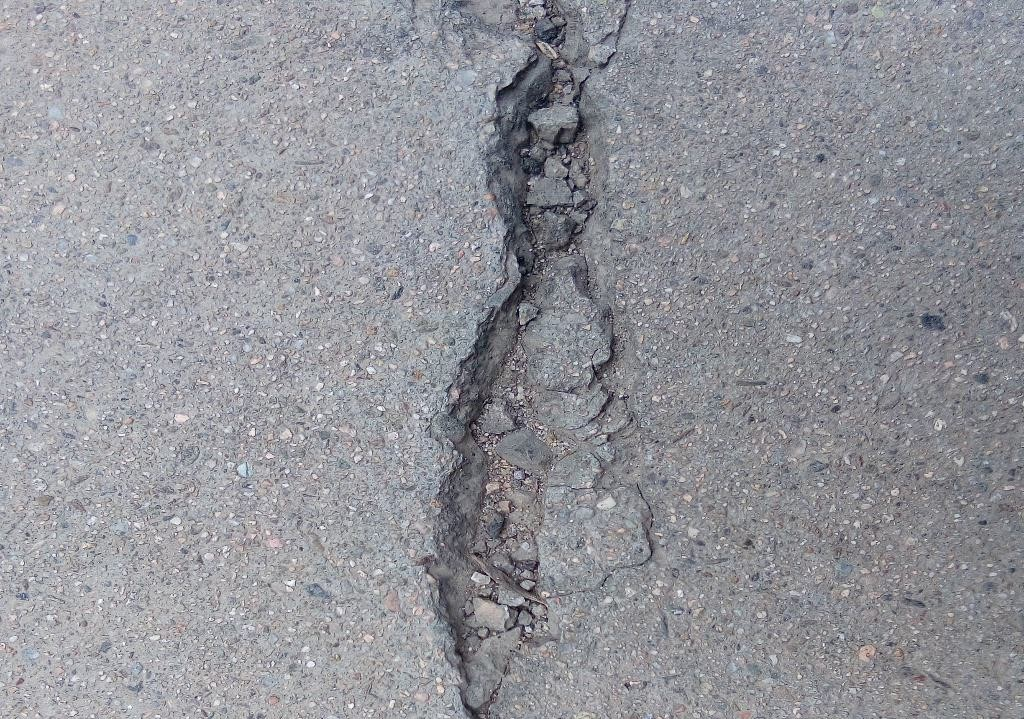Spalling: (416, 1, 640, 719)
